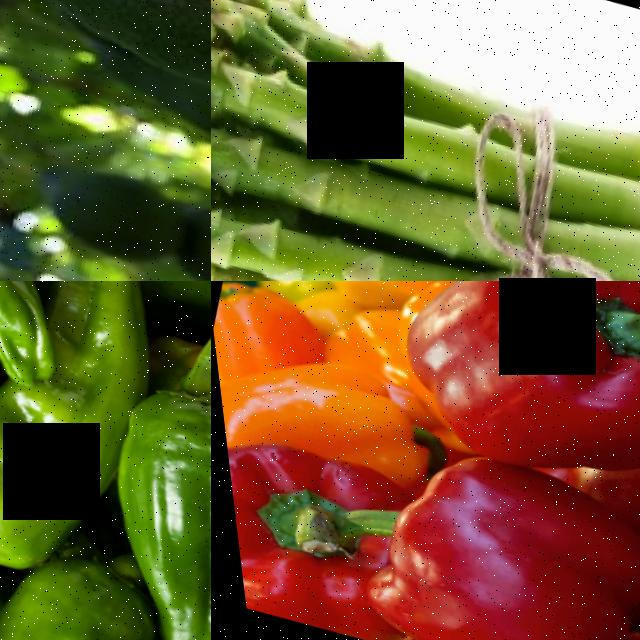asparagus: (211, 33, 469, 203), (211, 115, 408, 252), (211, 184, 388, 281)
avocado: (0, 0, 211, 144), (0, 141, 201, 281), (66, 40, 211, 179), (150, 183, 211, 281)
bell pepper: (375, 281, 640, 530), (343, 433, 640, 640), (214, 413, 436, 640), (211, 341, 421, 477)
pepper: (0, 392, 79, 615)
